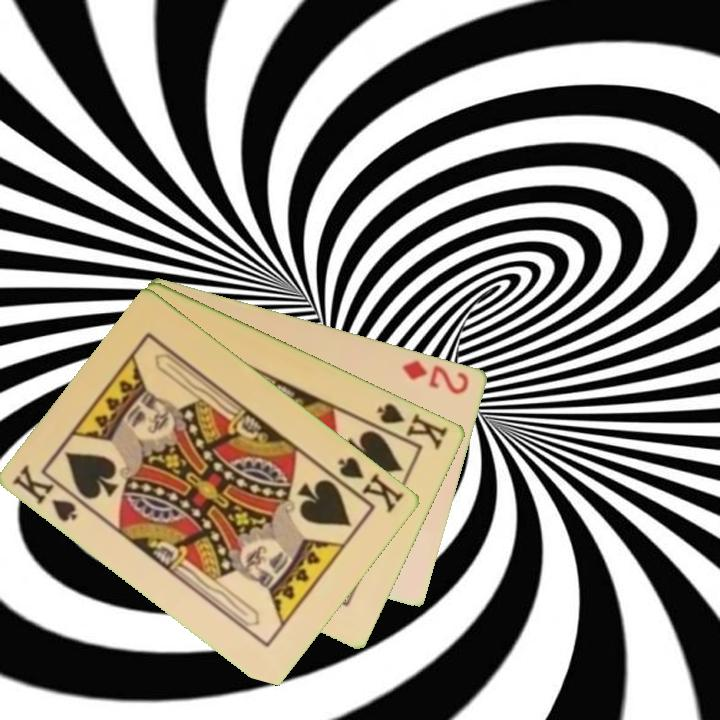2d: (399, 356, 473, 397)
Ks: (9, 461, 91, 525), (327, 452, 408, 516), (368, 399, 451, 453)
